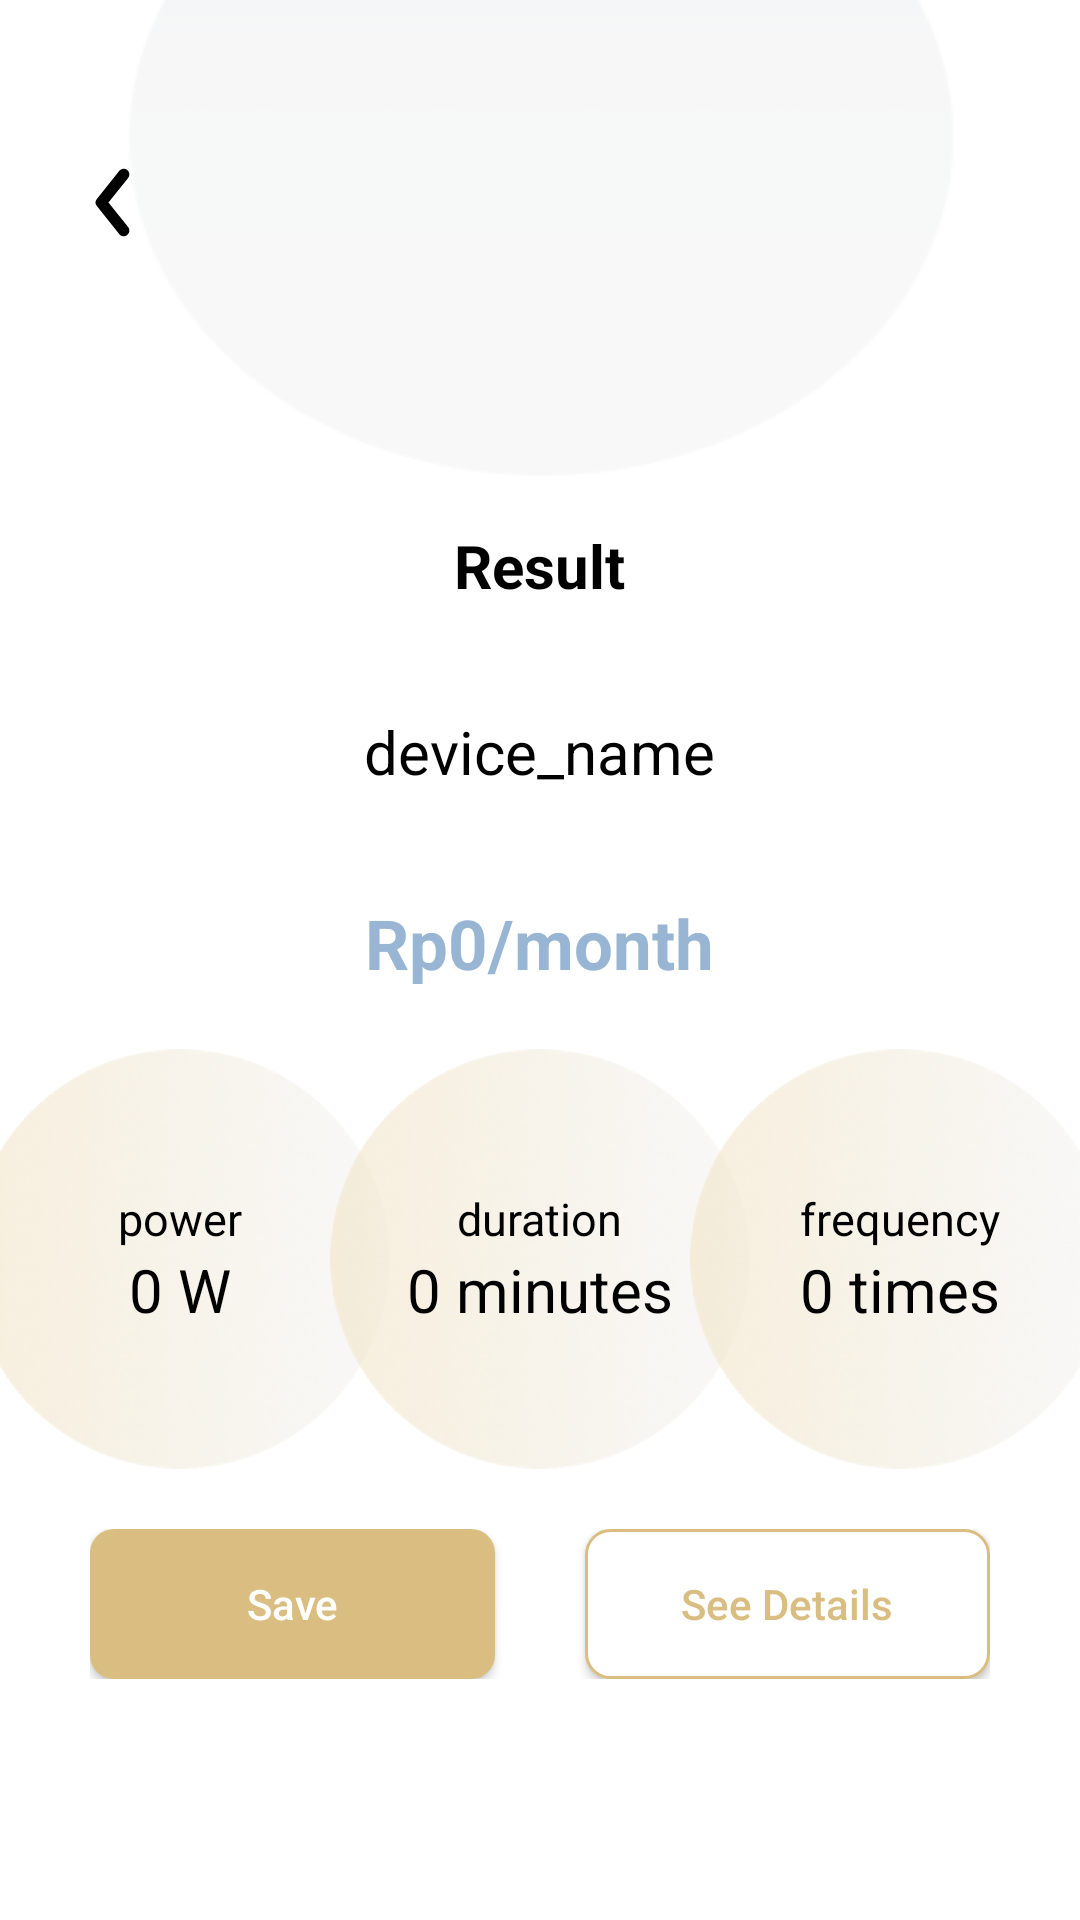

Screen size 1080px×1920px. Icon name, then its center in pixels as [x,y]:
back arrow: [112,202]
